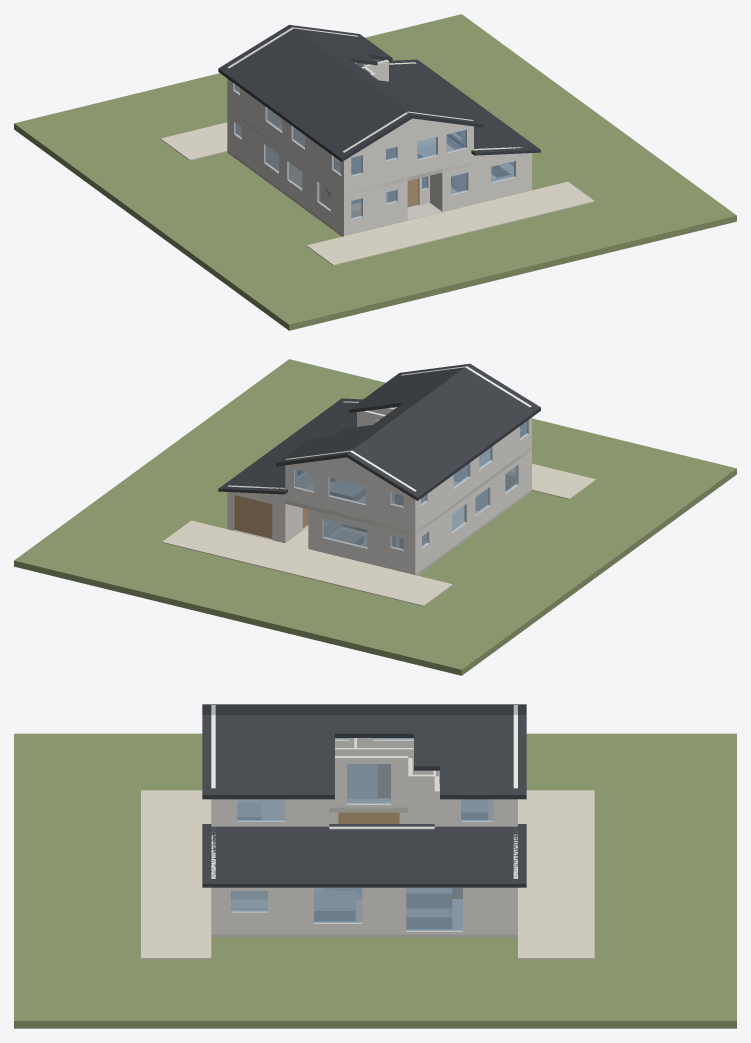
Rendered from casa_v2.obj.
3 views of the same model, one above another, from view 1: azimuth 30°, elevation 25°; view 2: azimuth 150°, elevation 25°; view 3: azimuth 270°, elevation 25° (orthographic). The views are drawn at different scales.
Parts seen in each view (by area): view 1: terreno, muro, cubierta, pavimento, vidrio, losa, madera; view 2: terreno, cubierta, muro, pavimento, vidrio, losa, madera, mueble; view 3: terreno, cubierta, pavimento, muro, vidrio, mueble, losa, madera.
Boxes of the visible parts, x1,y1,x2,y2 form: terreno: (14, 14, 736, 330); muro: (227, 27, 531, 235); cubierta: (218, 25, 540, 161); pavimento: (160, 122, 594, 265); vidrio: (234, 59, 515, 218); losa: (227, 109, 531, 236); madera: (320, 177, 451, 217); terreno: (14, 359, 736, 675); cubierta: (218, 363, 540, 500); muro: (227, 366, 531, 574); pavimento: (162, 463, 596, 606); vidrio: (294, 407, 528, 549); losa: (227, 447, 531, 575); madera: (233, 467, 515, 546); mueble: (330, 480, 365, 544); terreno: (14, 733, 736, 1028); cubierta: (202, 704, 526, 887); pavimento: (141, 790, 594, 959); muro: (211, 705, 517, 934); vidrio: (231, 738, 493, 930); mueble: (231, 799, 487, 929); losa: (211, 784, 517, 937); madera: (338, 764, 462, 898).
Size of the model in its own units: 31 by 7.65 by 33.
